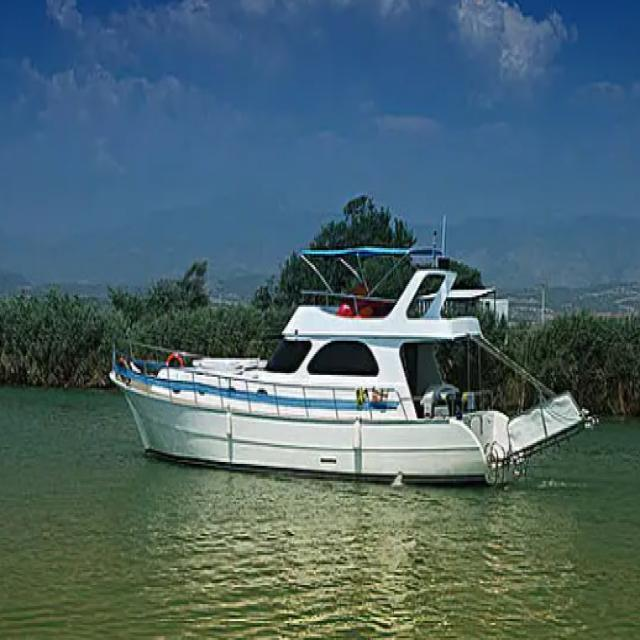houseboat: (107, 251, 594, 490)
